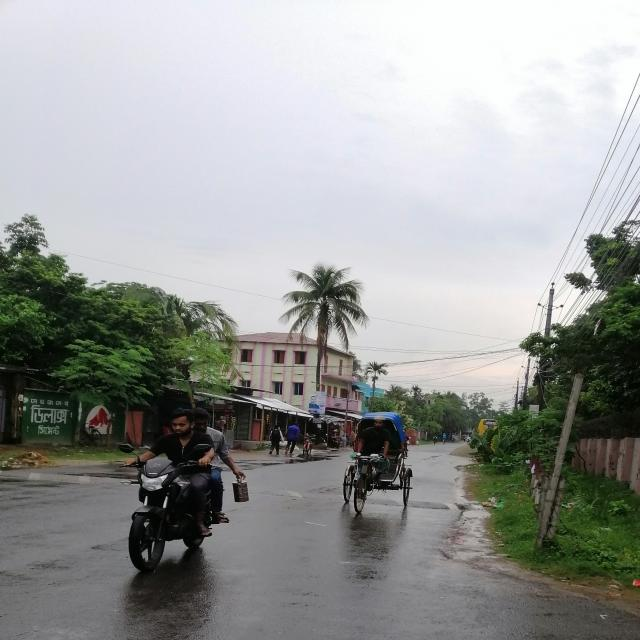Motorbike: (103, 436, 243, 573)
Rickshaw: (335, 404, 424, 520)
